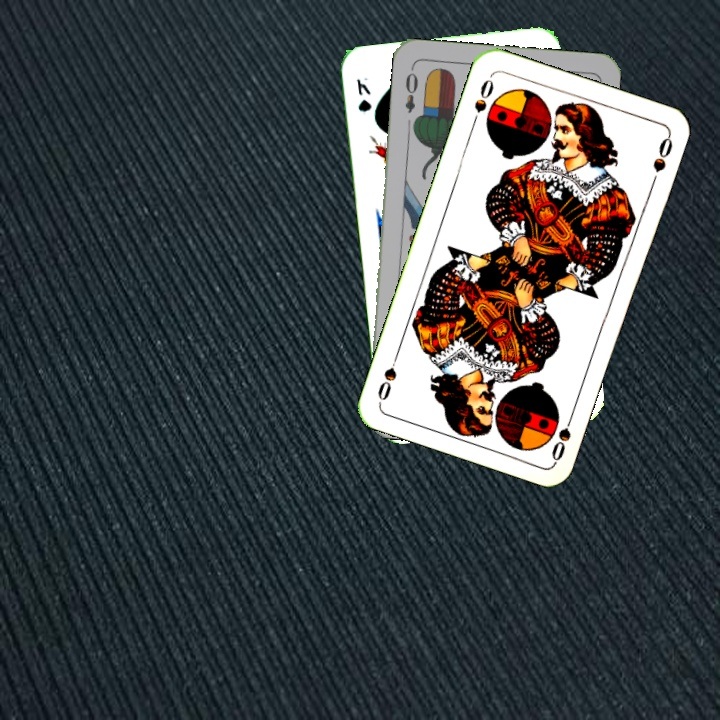EO: (400, 63, 421, 116)
GK: (352, 73, 375, 115)
SO: (547, 406, 578, 464), (467, 72, 496, 129)
